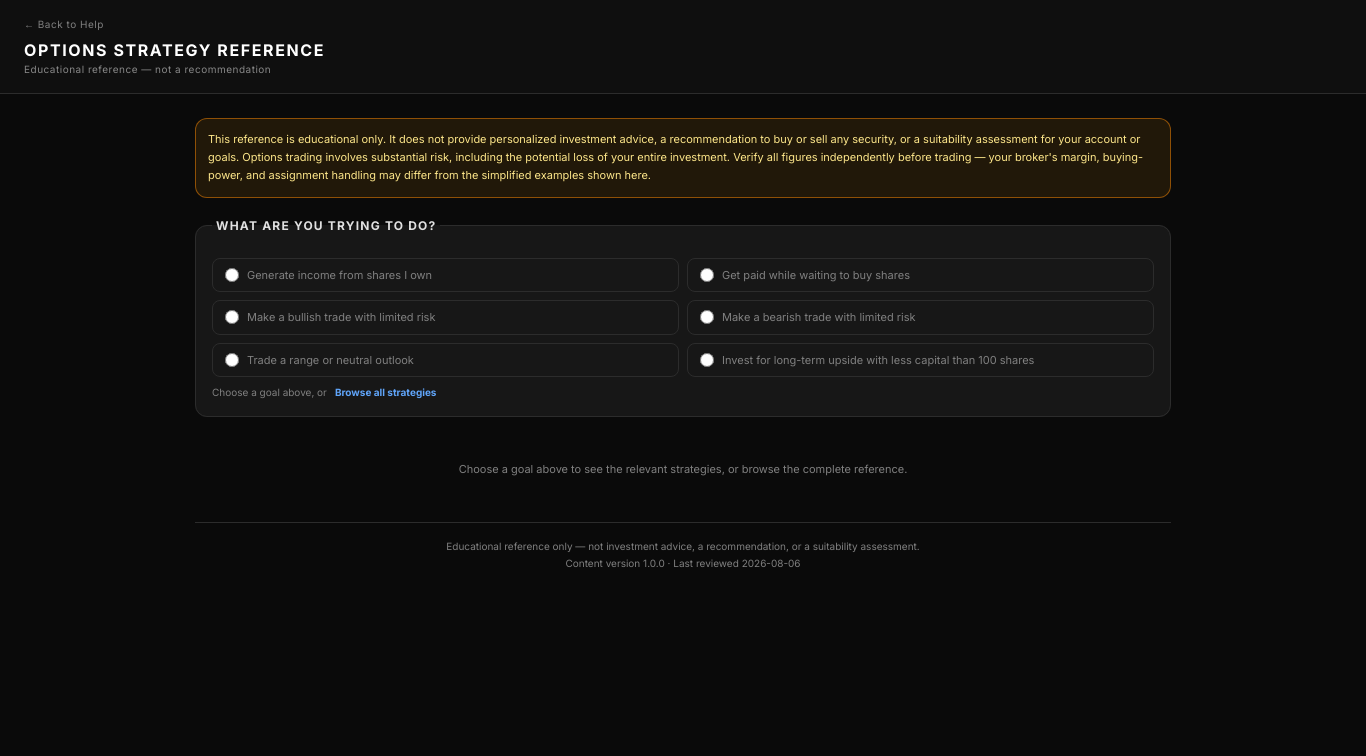
Test: HELP-0001: Options Strategy Reference page › comparison selection and removal › checking "Compare" on cards adds them to the comparison tray
This screenshot has width=1366, height=756.
Click the button "Browse all strategies". click: (386, 393)
box: [335,385,436,400]
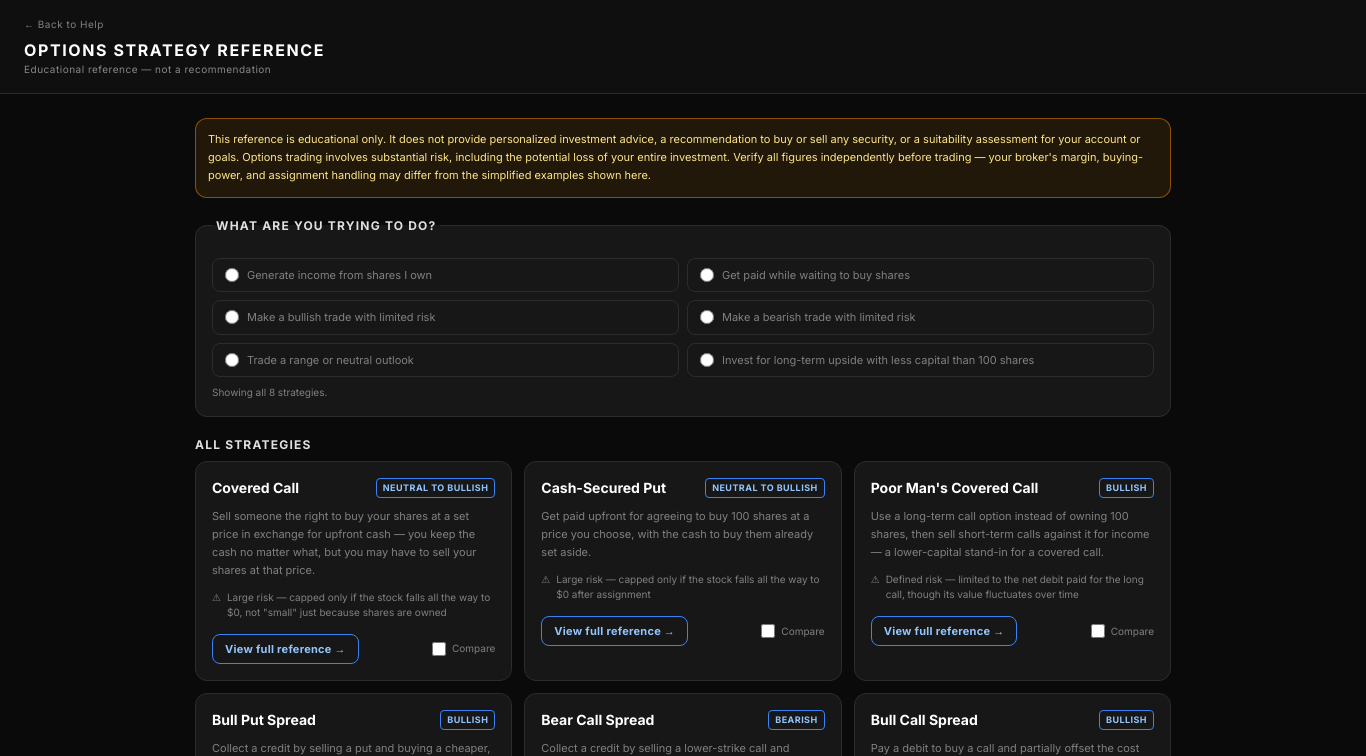
Click the 3rd checkbox labelled "Compare". click: (439, 649)
box: [432,642,446,656]
(page scrolled)
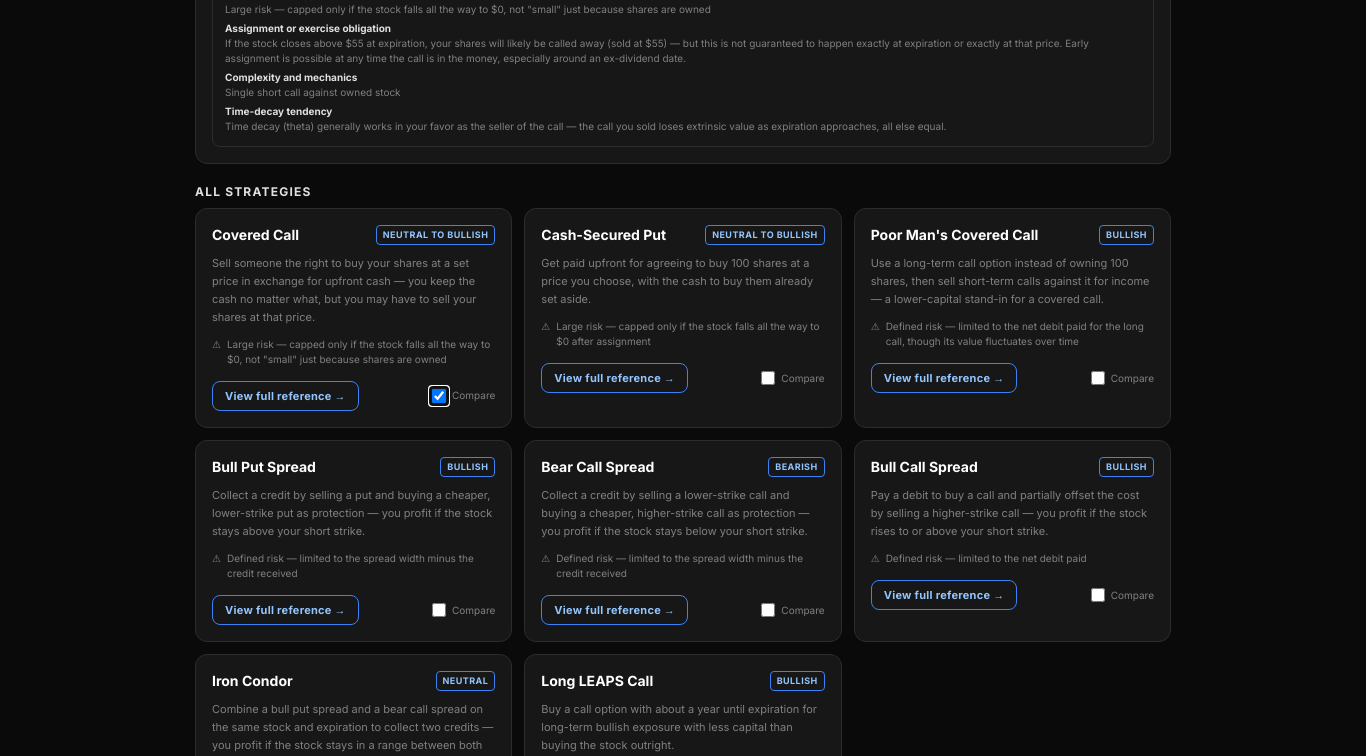
Click the checkbox labelled "Compare" below "Cash-Secured Put". click: (768, 378)
box: [761,371,775,385]
(page scrolled)
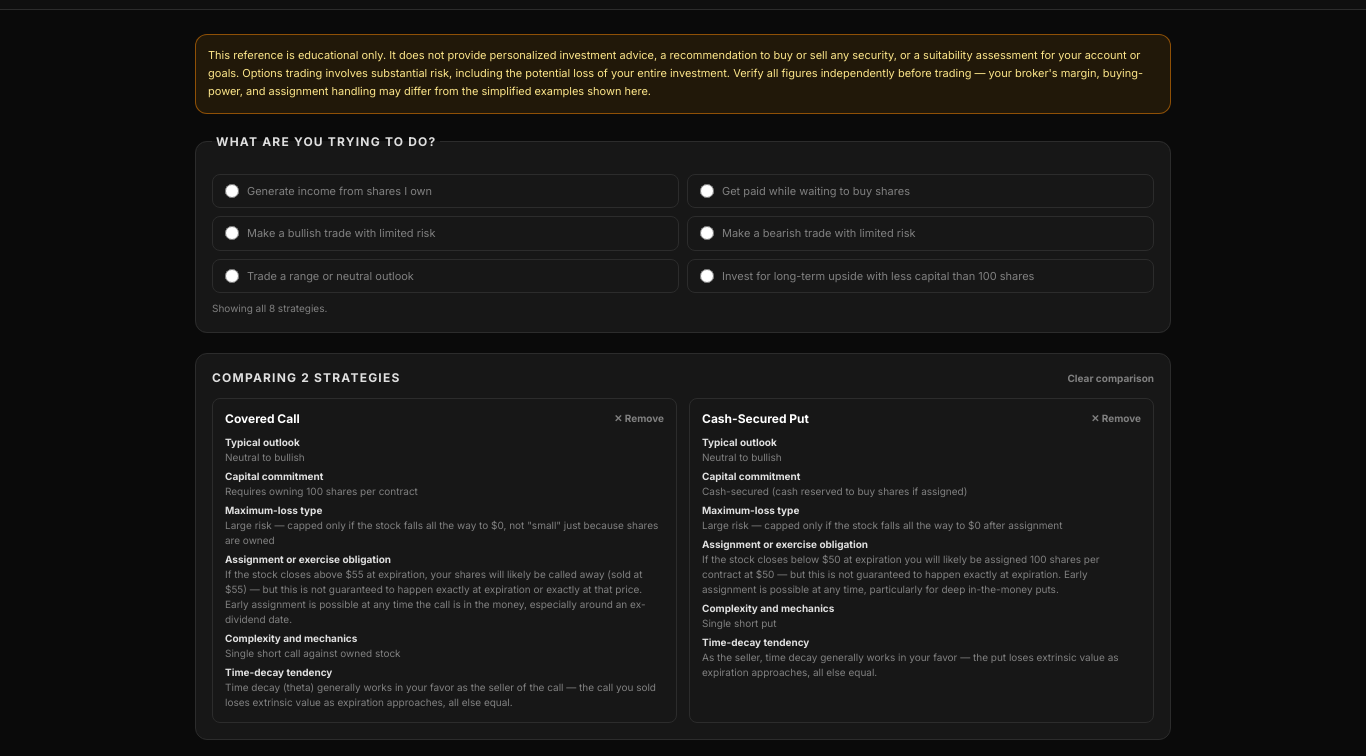
Result: the heading "Comparing 2 strategies" is shown at [212,370,400,386]
